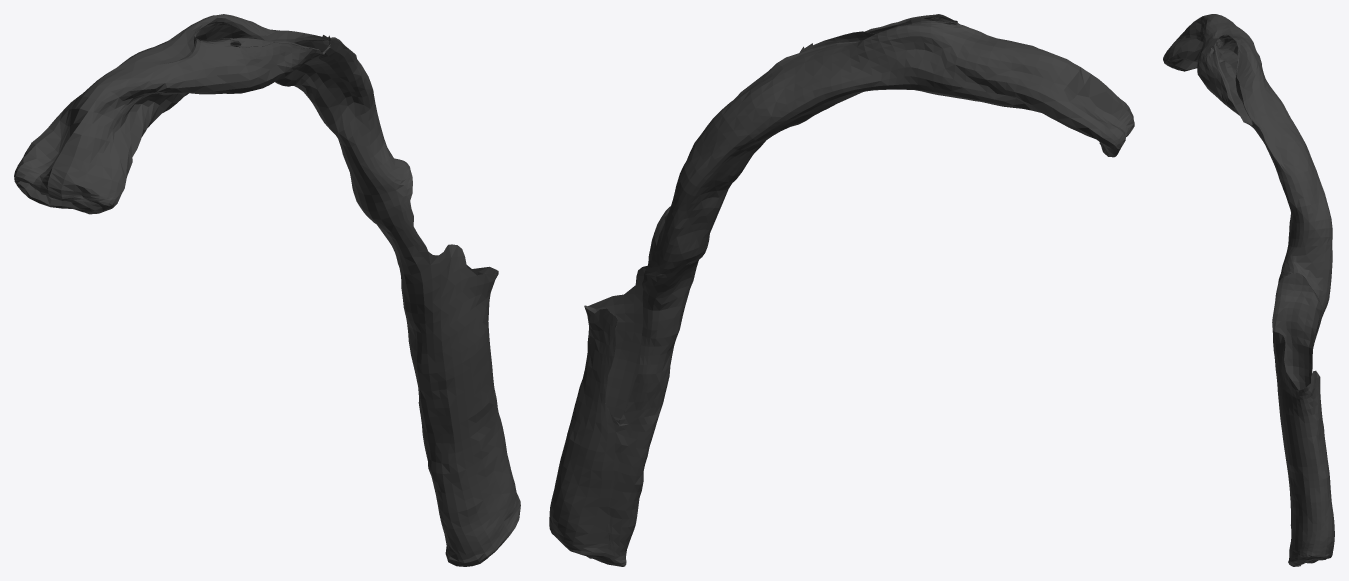
The model's file is Pipes_oesophagus.glb.
3 views of the same model, side by side, from view 1: azimuth 30°, elevation 25°; view 2: azimuth 150°, elevation 25°; view 3: azimuth 270°, elevation 25° (orthographic). The views are drawn at different scales.
Visible parts, largest first — view 1: Pipes_oesophagus; view 2: Pipes_oesophagus; view 3: Pipes_oesophagus.
Boxes of the visible parts, x1,y1,x2,y2 form: Pipes_oesophagus: (14,14,520,566); Pipes_oesophagus: (549,14,1134,566); Pipes_oesophagus: (1163,14,1334,566).
Size of the model in its own units: 1.45 by 1.58 by 0.5735.
Materials: 1 (1 with a texture image).
